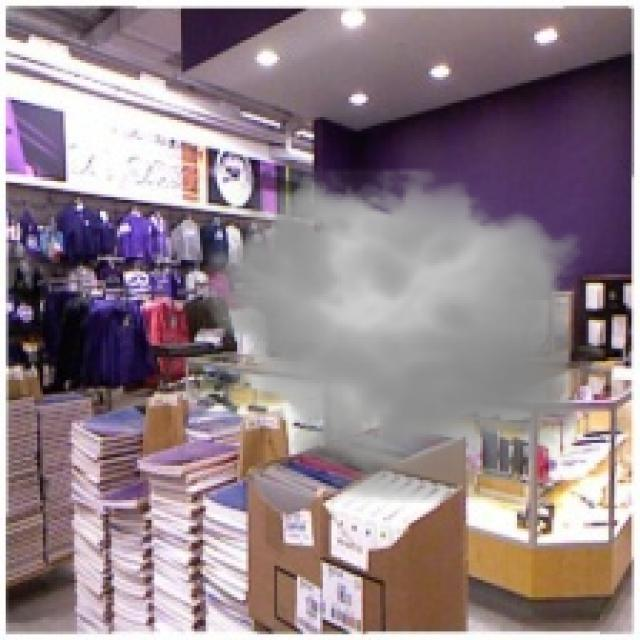smoke: (186, 155, 600, 514)
